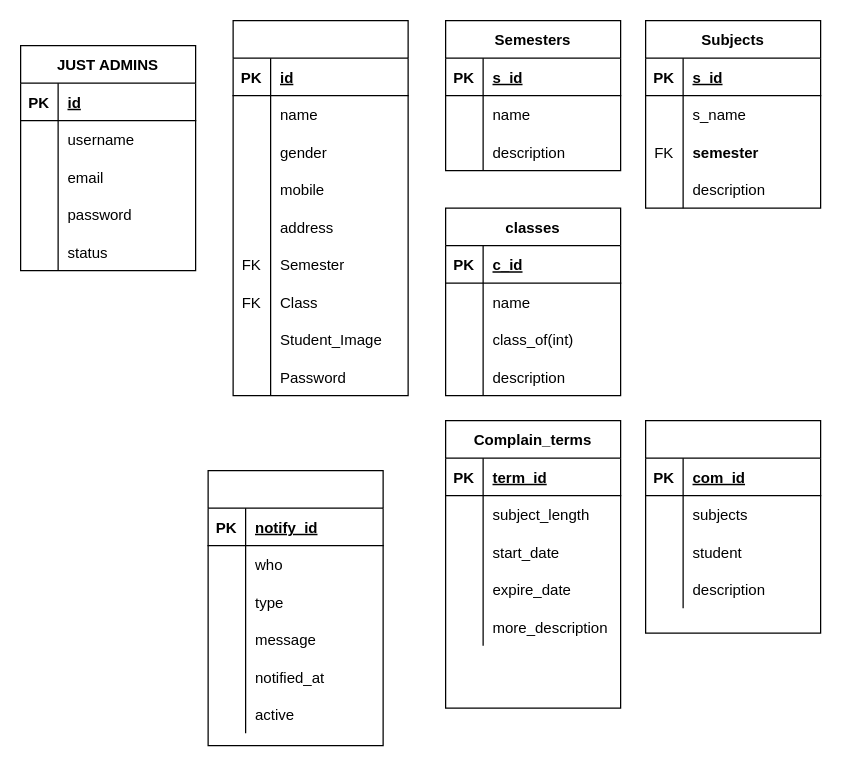
Some shapes in this 841 by 766 pixel diagram are drawn without their labels. Here are the shapes that lost their labels. From the top down, the box of each, then its label:
(232, 19, 408, 396): JUST STUDENTS
(644, 419, 821, 633): Complain
(207, 469, 383, 746): notifications/reports
